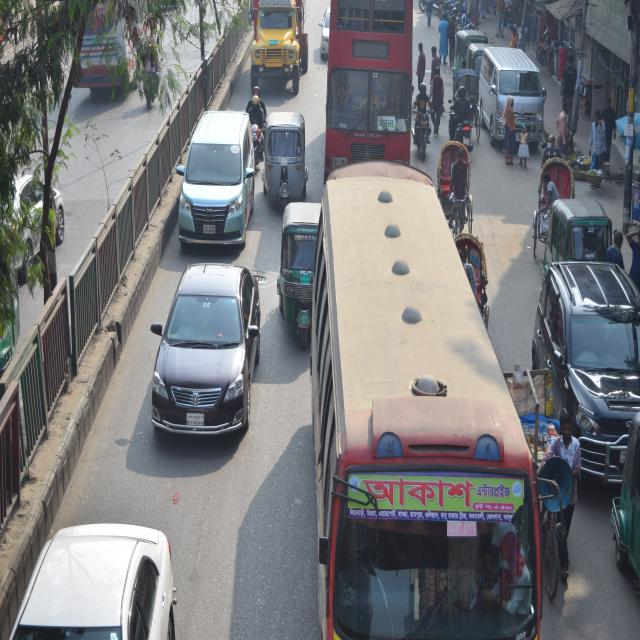bus: (294, 176, 533, 623), (330, 2, 416, 159)
car: (531, 248, 640, 497), (3, 508, 191, 640), (155, 260, 284, 449), (178, 128, 276, 251)
microbus: (481, 46, 551, 148)
motorbike: (242, 86, 279, 181), (414, 84, 436, 155)
